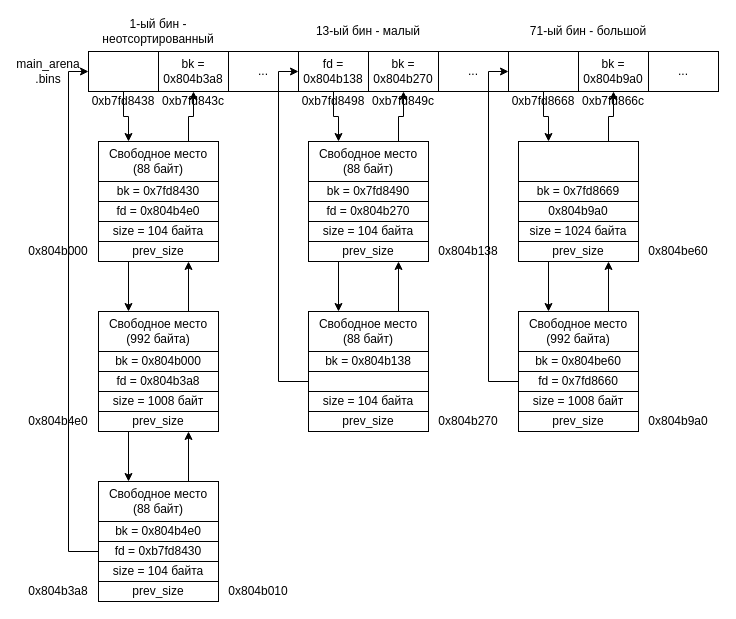
This 736x619 diagram has some shape labels left out. The centre of each missing label's shape, as x and y in pixels:
"fd = 0x804b000" belongs at (x=123, y=71).
"fd = 0x804be60" belongs at (x=543, y=71).
"fd = 0xb7fd8490" belongs at (x=368, y=381).
"Свободное место (1008 байт)" belongs at (x=578, y=161).
